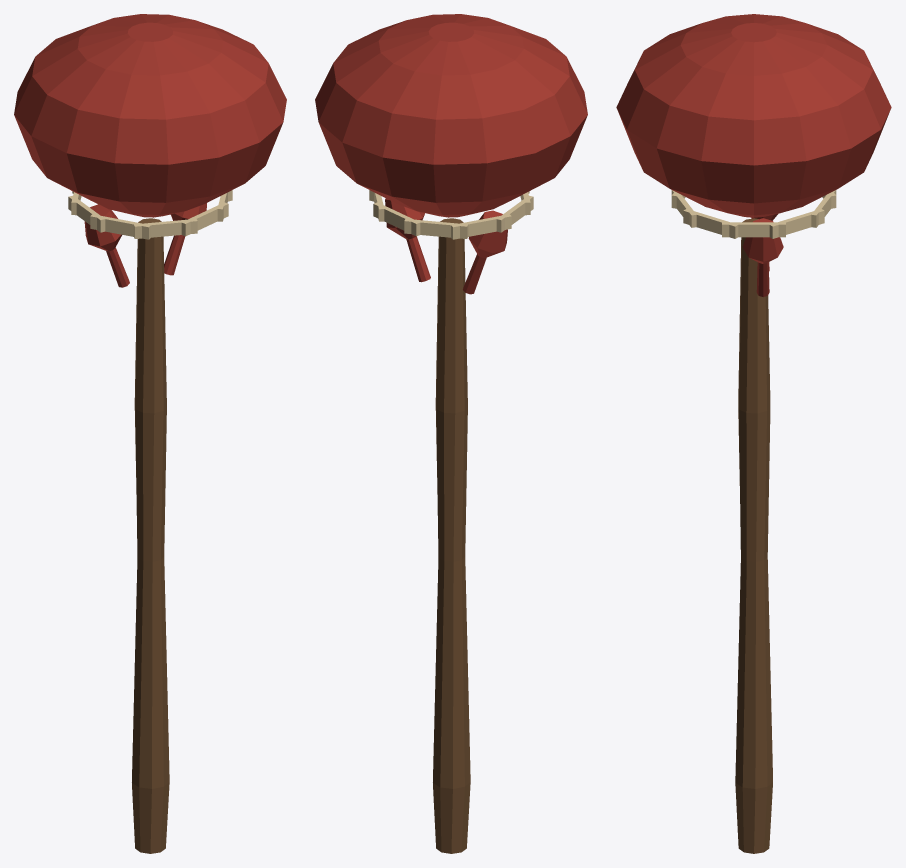
Rendered from staff_mushroom.glb.
3 views of the same model, side by side, from view 1: azimuth 30°, elevation 25°; view 2: azimuth 150°, elevation 25°; view 3: azimuth 270°, elevation 25° (orthographic).
Visible parts, largest first — view 1: Msh_Cap, Msh_Shaft, Msh_Small0, Msh_Small1, Msh_Gill7, Msh_Gill6, Msh_Gill8; view 2: Msh_Cap, Msh_Shaft, Msh_Small0, Msh_Small1, Msh_Gill3, Msh_Gill4, Msh_Gill2; view 3: Msh_Cap, Msh_Shaft, Msh_Small1, Msh_Gill0, Msh_Gill1, Msh_Gill9.
Part boxes in pixels (x1,y1,x2,y2): Msh_Cap: [14, 14, 286, 217]; Msh_Shaft: [132, 218, 169, 853]; Msh_Small0: [84, 204, 129, 287]; Msh_Small1: [164, 203, 206, 275]; Msh_Gill7: [133, 218, 197, 238]; Msh_Gill6: [90, 214, 150, 239]; Msh_Gill8: [181, 202, 228, 236]; Msh_Cap: [315, 14, 587, 217]; Msh_Shaft: [433, 218, 470, 853]; Msh_Small0: [463, 210, 507, 294]; Msh_Small1: [385, 198, 430, 282]; Msh_Gill3: [404, 219, 468, 238]; Msh_Gill4: [451, 214, 511, 239]; Msh_Gill2: [373, 202, 420, 236]; Msh_Cap: [616, 14, 891, 217]; Msh_Shaft: [735, 218, 772, 853]; Msh_Small1: [742, 218, 783, 296]; Msh_Gill0: [722, 222, 785, 237]; Msh_Gill1: [769, 209, 824, 238]; Msh_Gill9: [683, 209, 738, 238].
Size of the model in its own units: 0.6 by 1.96 by 0.6.
